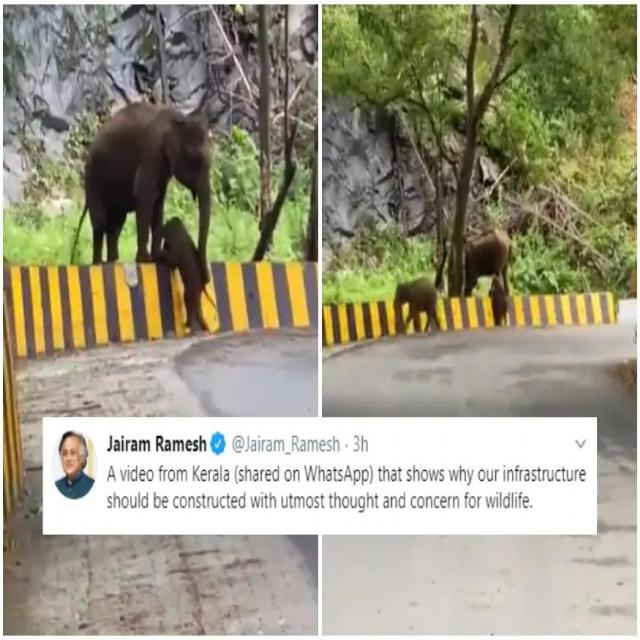Elephant: (65, 92, 219, 268), (152, 210, 230, 340), (384, 265, 458, 346), (451, 227, 518, 302)
